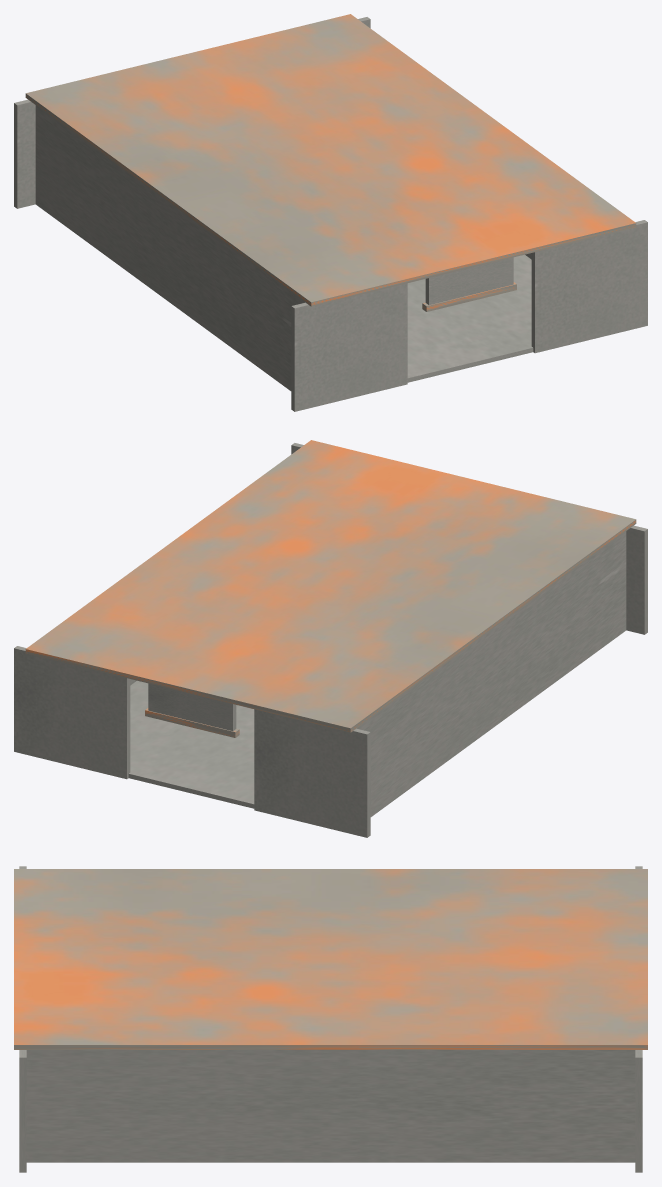
The model's file is warehouse.fbx.
3 renders of one model, top to bottom at view 1: azimuth 30°, elevation 25°; view 2: azimuth 150°, elevation 25°; view 3: azimuth 270°, elevation 25°, orthographic. The views are drawn at different scales.
Parts seen in each view (by area): view 1: roof.002, side_r, end_r.001, end_l.001, floor, end_top.001, end_r, gate_frame.001; view 2: roof.002, side_r, end_r, end_l, floor, end_top, end_r.001, gate_frame; view 3: roof.002, side_l, end_l, end_l.001.
Boxes of the visible parts, x1,y1,x2,y2 form: roof.002: (25,14,636,306); side_r: (35,105,304,390); end_r.001: (291,283,407,411); end_l.001: (531,220,647,353); floor: (407,254,533,382); end_top.001: (425,257,513,304); end_r: (14,99,35,208); gate_frame.001: (422,282,516,311); roof.002: (25,440,636,732); side_r: (357,531,626,816); end_r: (254,709,370,837); end_l: (14,646,130,779); floor: (128,680,254,808); end_top: (148,683,236,730); end_r.001: (626,525,647,634); gate_frame: (145,708,239,737); roof.002: (14,869,647,1049); side_l: (26,1050,635,1162); end_l: (635,1050,642,1172); end_l.001: (19,1050,26,1172).
Size of the model in its own units: 2500 by 730 by 3500.
